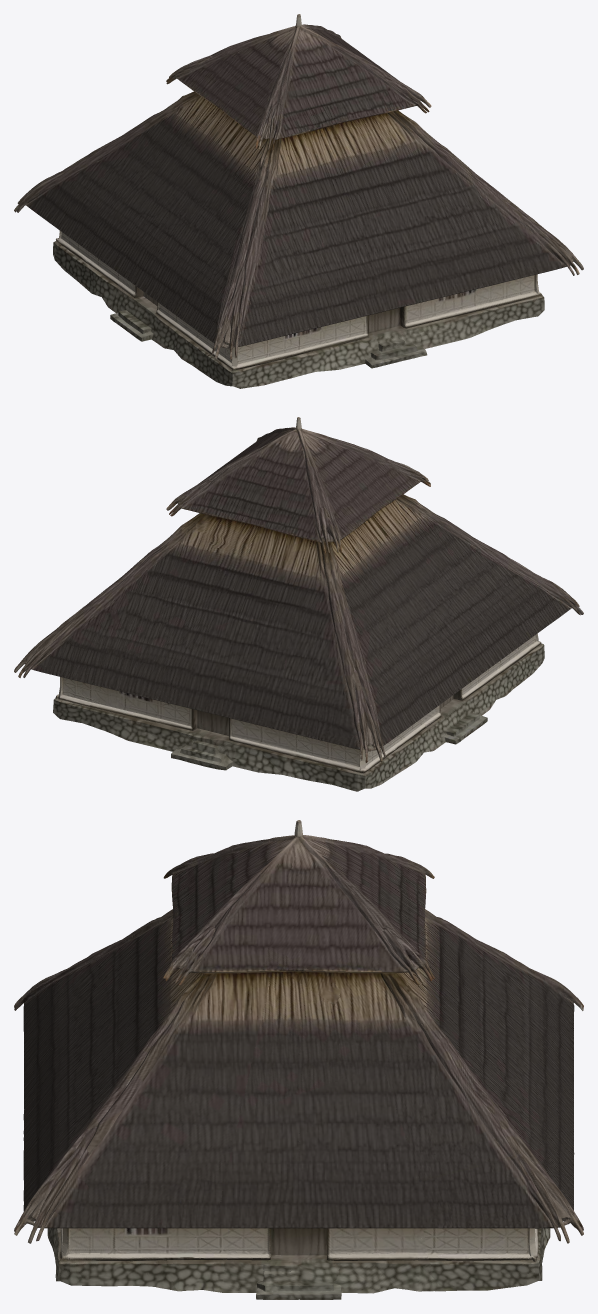
Rendered from Masjid Kuno Bayan.glb.
3 renders of one model, top to bottom at view 1: azimuth 30°, elevation 25°; view 2: azimuth 150°, elevation 25°; view 3: azimuth 270°, elevation 25°, orthographic. The views are drawn at different scales.
Parts seen in each view (by area): view 1: tripo_node_ed2f61bd-98a8-4619-85b7-3b04825f5ed8; view 2: tripo_node_ed2f61bd-98a8-4619-85b7-3b04825f5ed8; view 3: tripo_node_ed2f61bd-98a8-4619-85b7-3b04825f5ed8.
Part boxes in pixels (bbox=[...]): tripo_node_ed2f61bd-98a8-4619-85b7-3b04825f5ed8: bbox=[14, 14, 583, 388]; tripo_node_ed2f61bd-98a8-4619-85b7-3b04825f5ed8: bbox=[14, 417, 583, 791]; tripo_node_ed2f61bd-98a8-4619-85b7-3b04825f5ed8: bbox=[14, 820, 583, 1299].
Bounding box in the file's own units: 1 × 0.7093 × 0.9998.
Materials: 1 (1 with a texture image).
